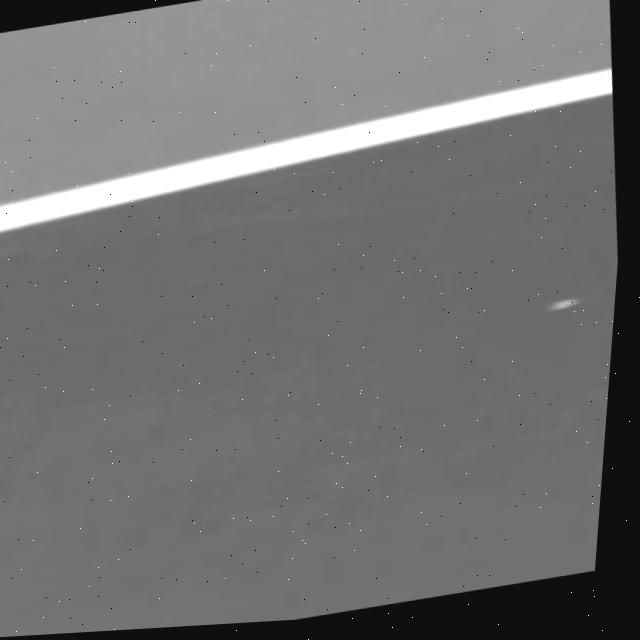left: (0, 66, 612, 230)
